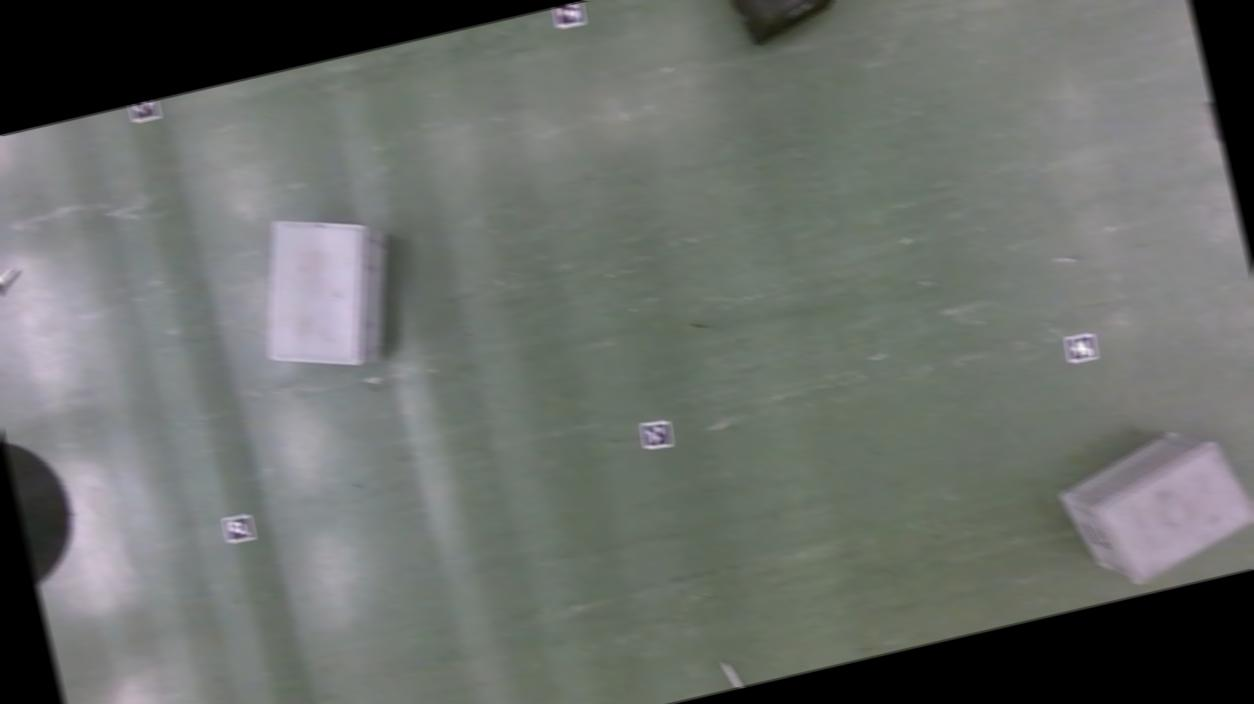probes: (720, 655, 753, 690), (0, 267, 27, 304), (1207, 98, 1223, 144)
rako: (1046, 417, 1254, 603), (705, 0, 859, 52)
